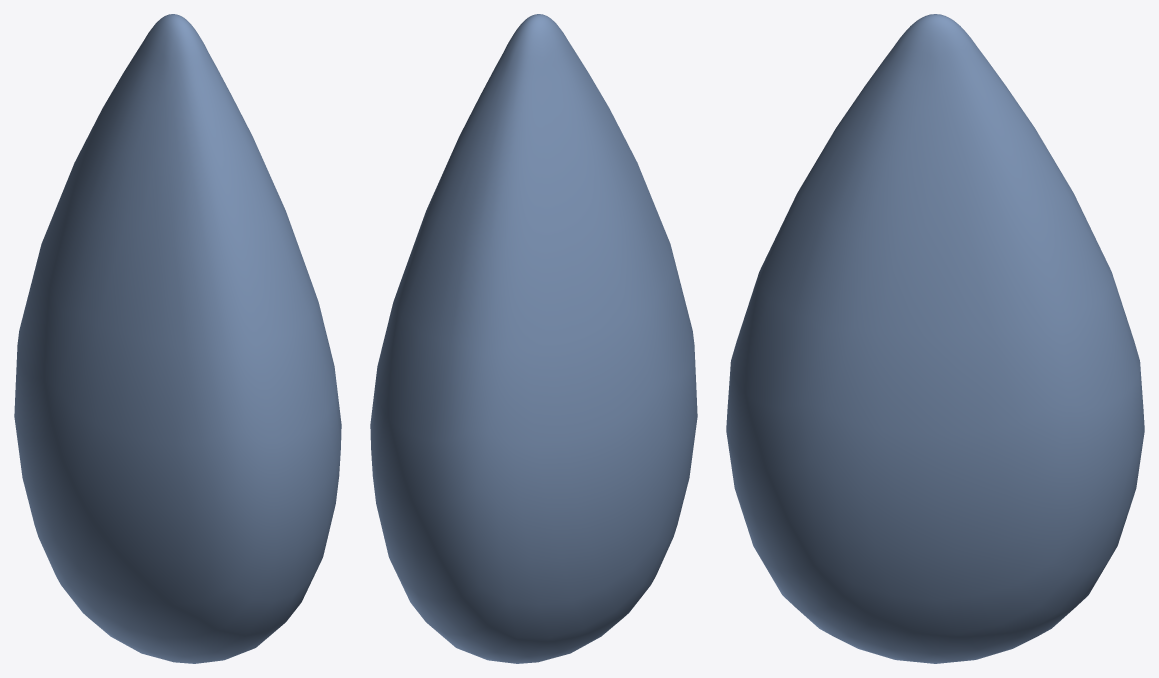
The model's file is goutte_1.glb.
3 renders of one model, left to right at view 1: azimuth 30°, elevation 25°; view 2: azimuth 150°, elevation 25°; view 3: azimuth 270°, elevation 25°, orthographic.
Parts seen in each view (by area): view 1: Icosphere; view 2: Icosphere; view 3: Icosphere.
Part boxes in pixels (x1,y1,x2,y2): Icosphere: (14, 14, 341, 663); Icosphere: (370, 14, 697, 663); Icosphere: (726, 14, 1144, 663).
Size of the model in its own units: 0.7628 by 1.81 by 1.08.
